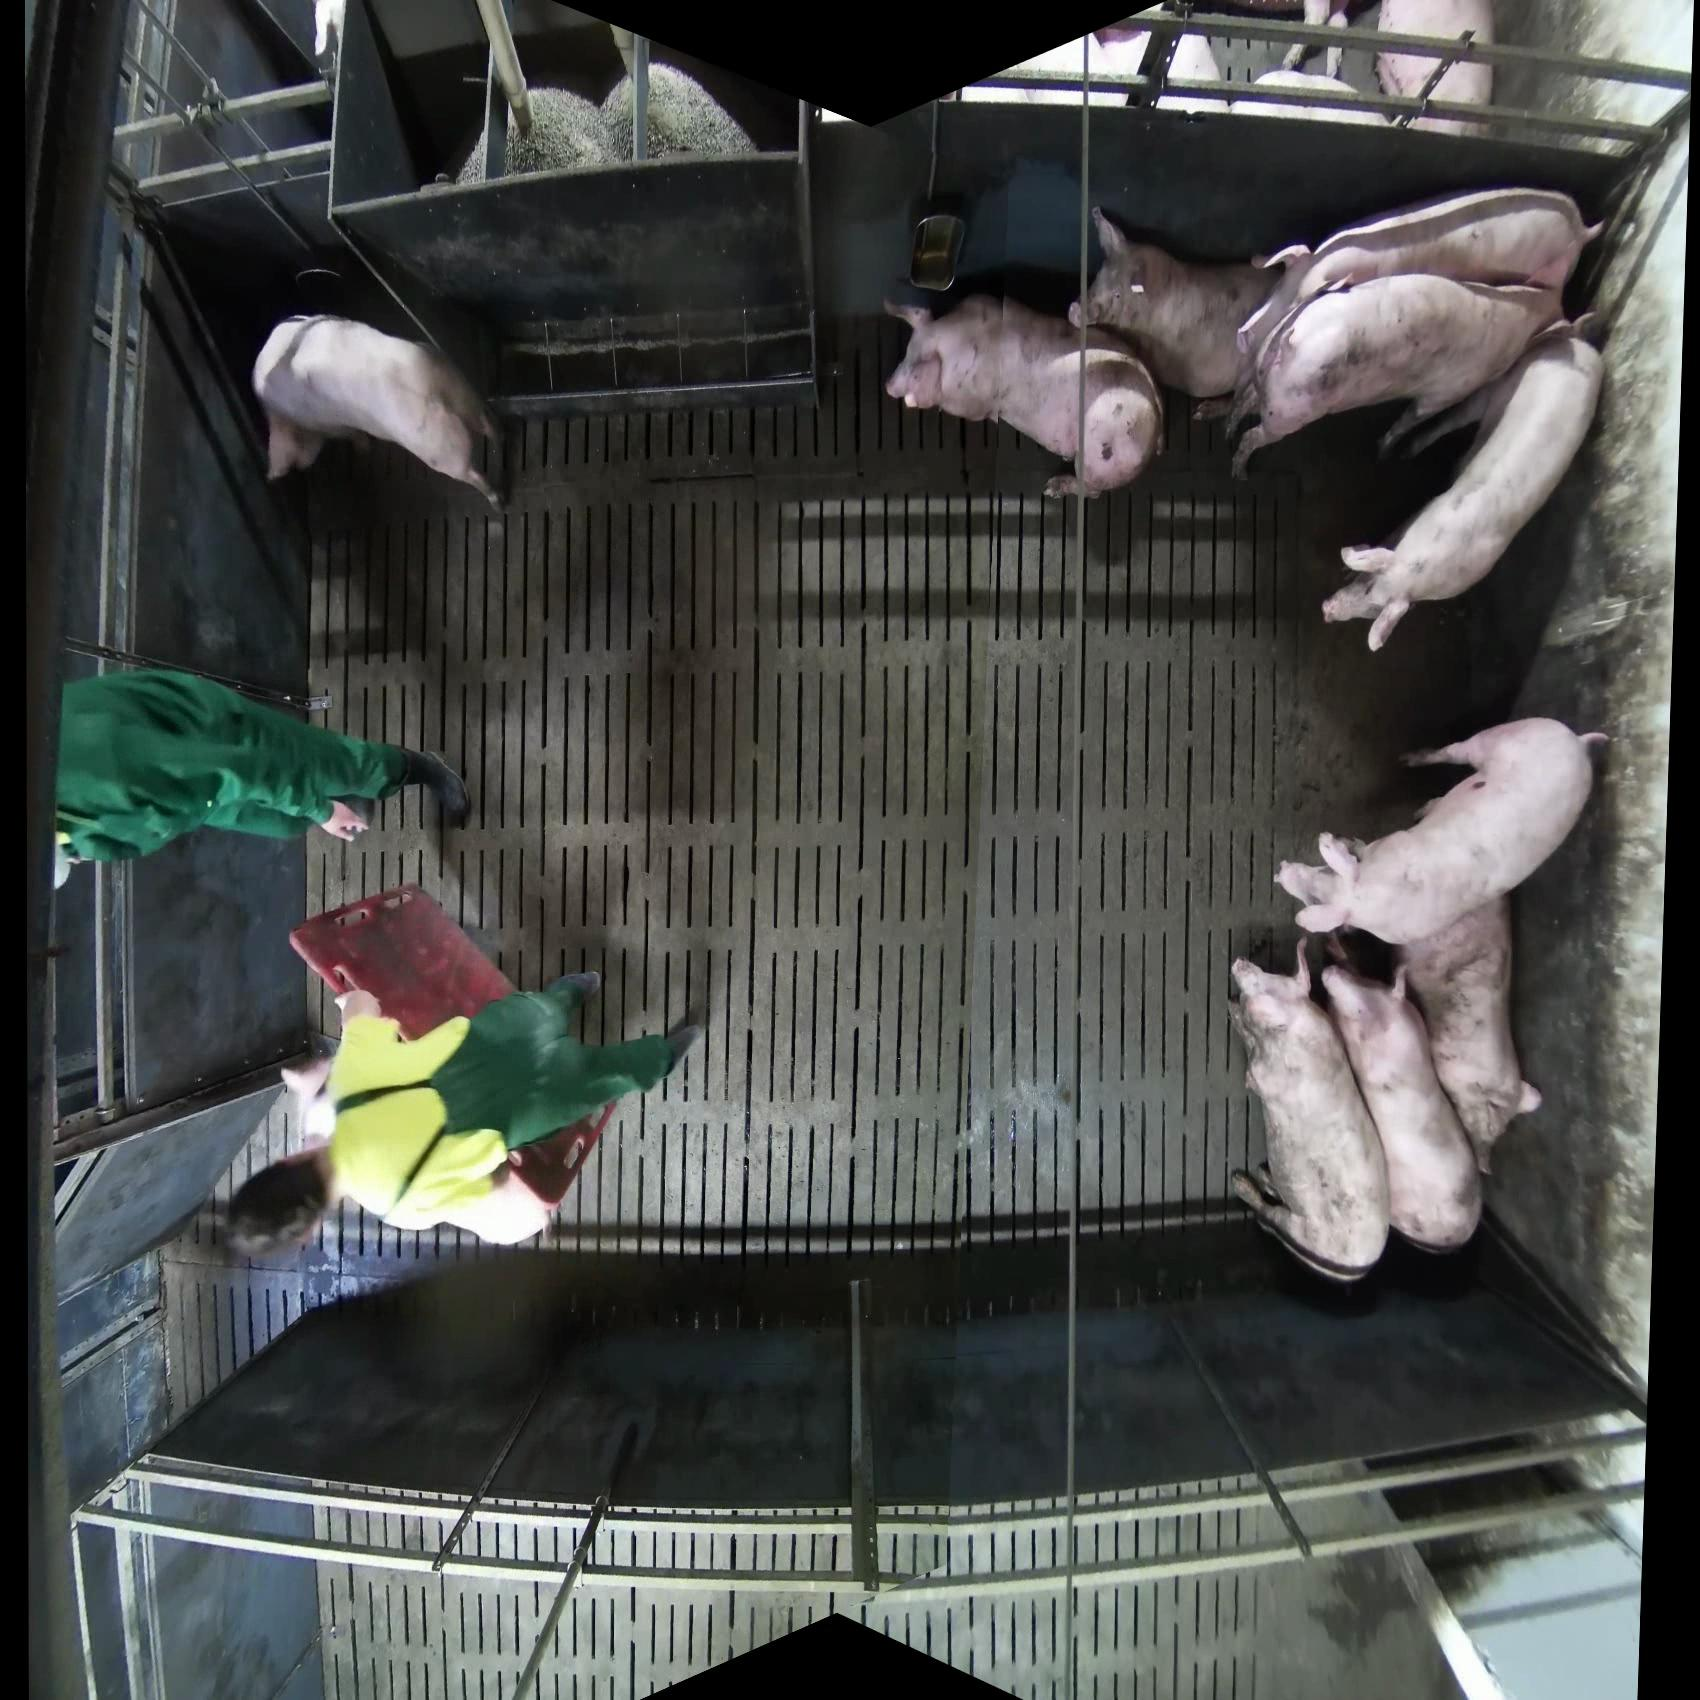pig: (1320, 322, 1609, 654), (1273, 715, 1612, 948), (1238, 184, 1603, 389), (1222, 271, 1569, 484), (881, 289, 1167, 502), (1224, 935, 1392, 1285), (251, 312, 506, 520), (1319, 959, 1486, 1255), (1068, 204, 1298, 410), (1390, 891, 1544, 1177), (1374, 1, 1497, 137), (1231, 68, 1392, 129)
worker: (221, 964, 706, 1265), (52, 664, 472, 893)
